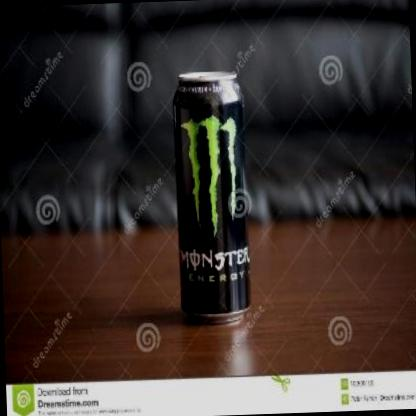alumunium_can: (171, 70, 253, 325)
